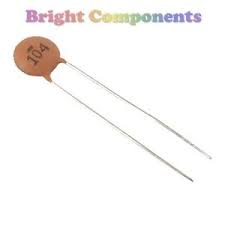ceramic capacitor: (4, 26, 93, 107)
